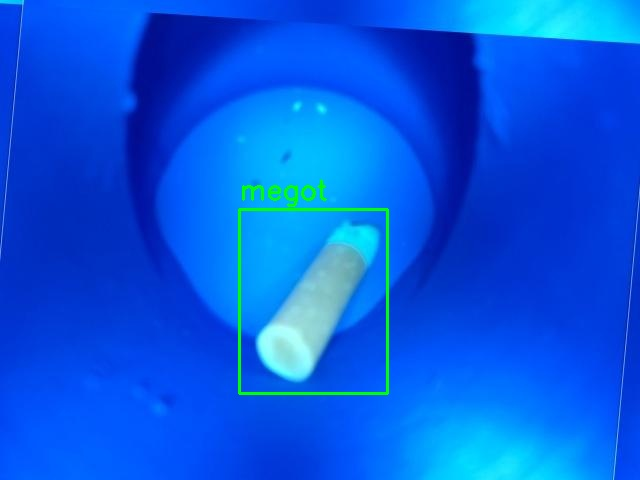megot: (239, 209, 387, 393)
